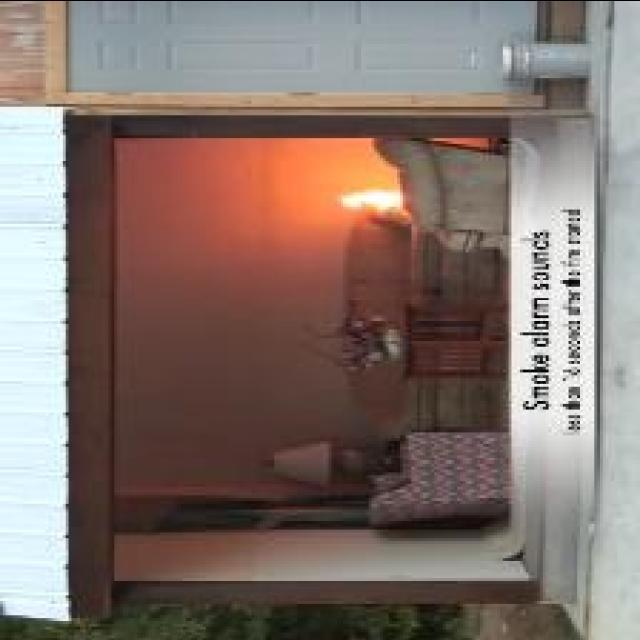Fire: (337, 188, 403, 212)
